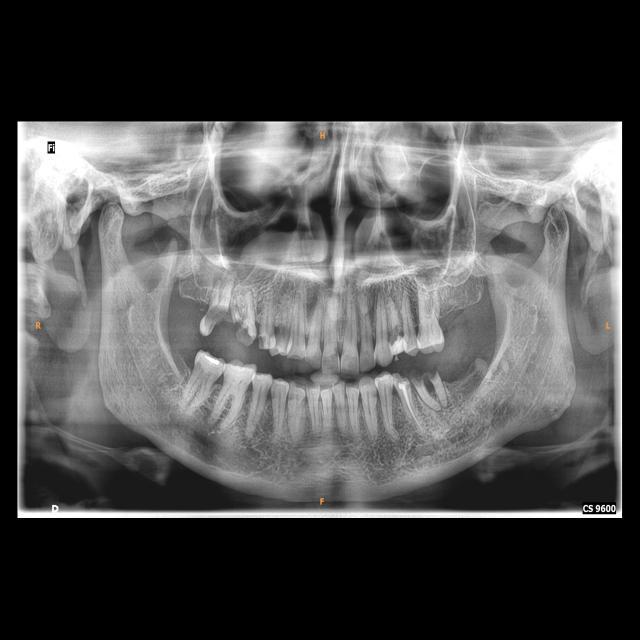dentin-curugu: (200, 301, 228, 335), (409, 365, 443, 386), (237, 319, 256, 349), (275, 325, 292, 348), (388, 322, 402, 345), (255, 336, 268, 350), (393, 372, 410, 382)
dolgu: (203, 351, 223, 374), (390, 340, 408, 356)
kanal-tedavisi: (403, 387, 420, 434)
